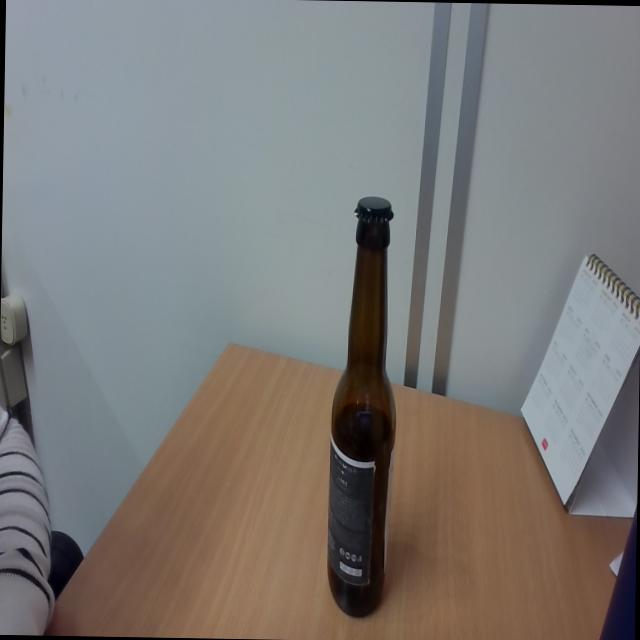Bottle: (326, 193, 399, 620)
Cap: (352, 194, 396, 228)
Label: (326, 452, 376, 592)
